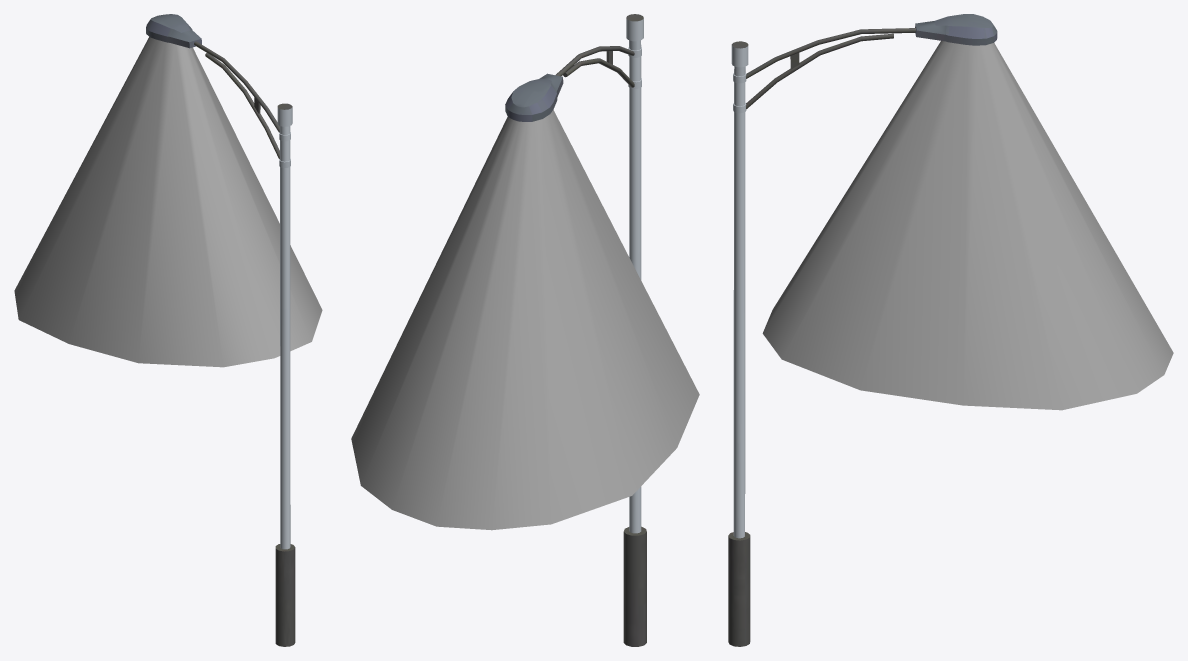
File: Street Light.fbx
3 views of the same model, side by side, from view 1: azimuth 30°, elevation 25°; view 2: azimuth 150°, elevation 25°; view 3: azimuth 270°, elevation 25° (orthographic). The views are drawn at different scales.
Parts seen in each view (by area): view 1: polySurface3, polySurface4; view 2: polySurface3, polySurface4; view 3: polySurface3, polySurface4.
Part boxes in pixels (<box>): polySurface3: <box>14,37,322,367</box>; polySurface4: <box>146,14,295,646</box>; polySurface3: <box>351,110,699,530</box>; polySurface4: <box>505,14,646,646</box>; polySurface3: <box>762,41,1173,410</box>; polySurface4: <box>728,14,997,646</box>.
Size of the model in its own units: 340 by 758 by 497.
2 materials, 1 textured.
